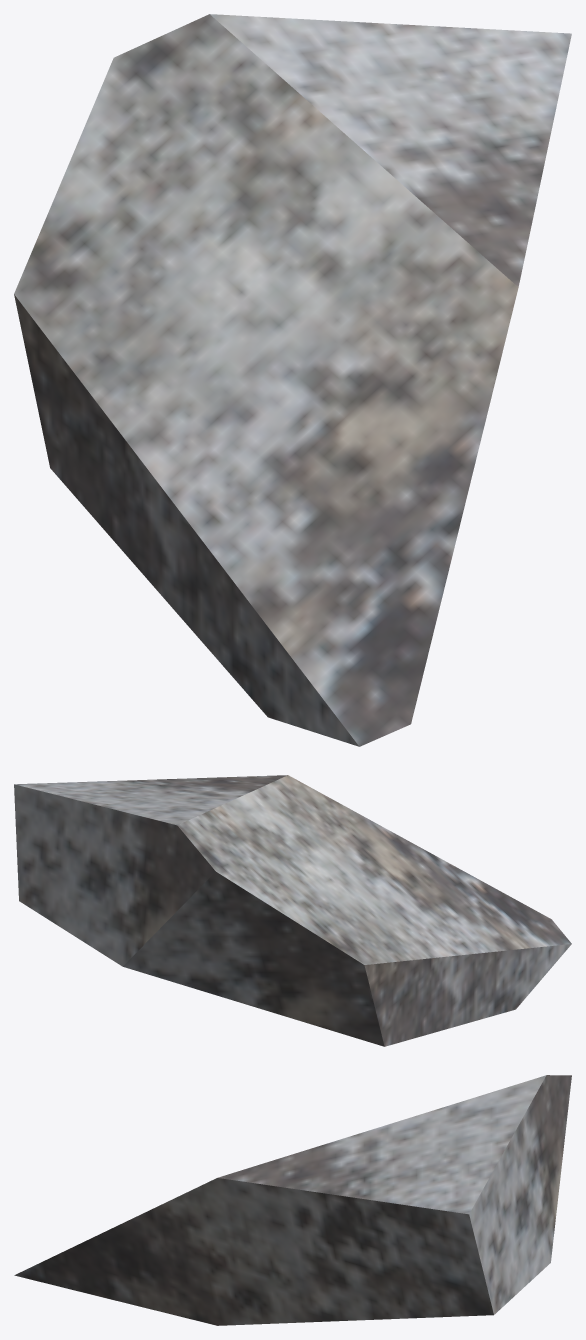
File: Asteroid_Large_001_02_009_03_032.fbx
The picture shows the model from 3 angles, top to bottom: view 1: azimuth 30°, elevation 25°; view 2: azimuth 150°, elevation 25°; view 3: azimuth 270°, elevation 25°; orthographic projection. The views are drawn at different scales.
Visible parts, largest first — view 1: Asteroid_Large_001_02_009_03_032; view 2: Asteroid_Large_001_02_009_03_032; view 3: Asteroid_Large_001_02_009_03_032.
Part boxes in pixels (bbox=[...]): Asteroid_Large_001_02_009_03_032: bbox=[14, 14, 571, 746]; Asteroid_Large_001_02_009_03_032: bbox=[14, 775, 571, 1046]; Asteroid_Large_001_02_009_03_032: bbox=[14, 1075, 571, 1325].
Bounding box in the file's own units: 3.57 × 2.72 × 4.58.
